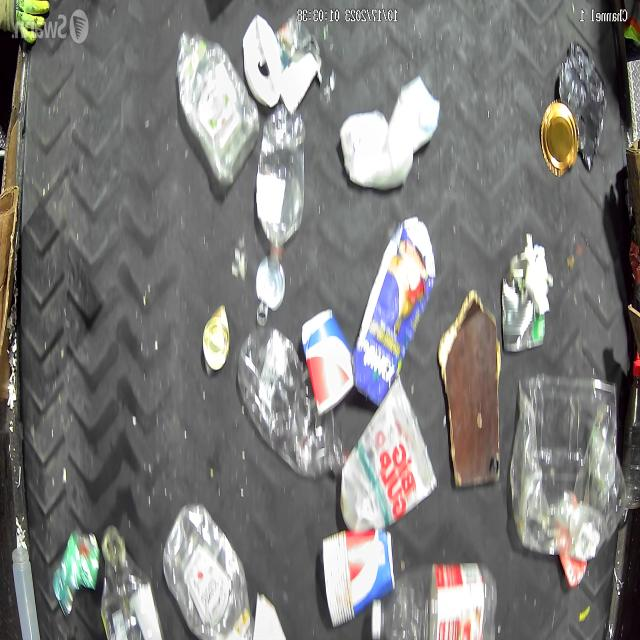can: (502, 253, 546, 351), (540, 99, 580, 179), (62, 528, 100, 596), (202, 304, 232, 374)
non_white_jug: (351, 217, 436, 409)
plastic_bottle: (237, 320, 345, 479), (174, 27, 256, 185), (163, 501, 253, 640), (370, 560, 496, 640), (254, 101, 306, 263), (96, 534, 160, 640), (620, 362, 640, 508)
